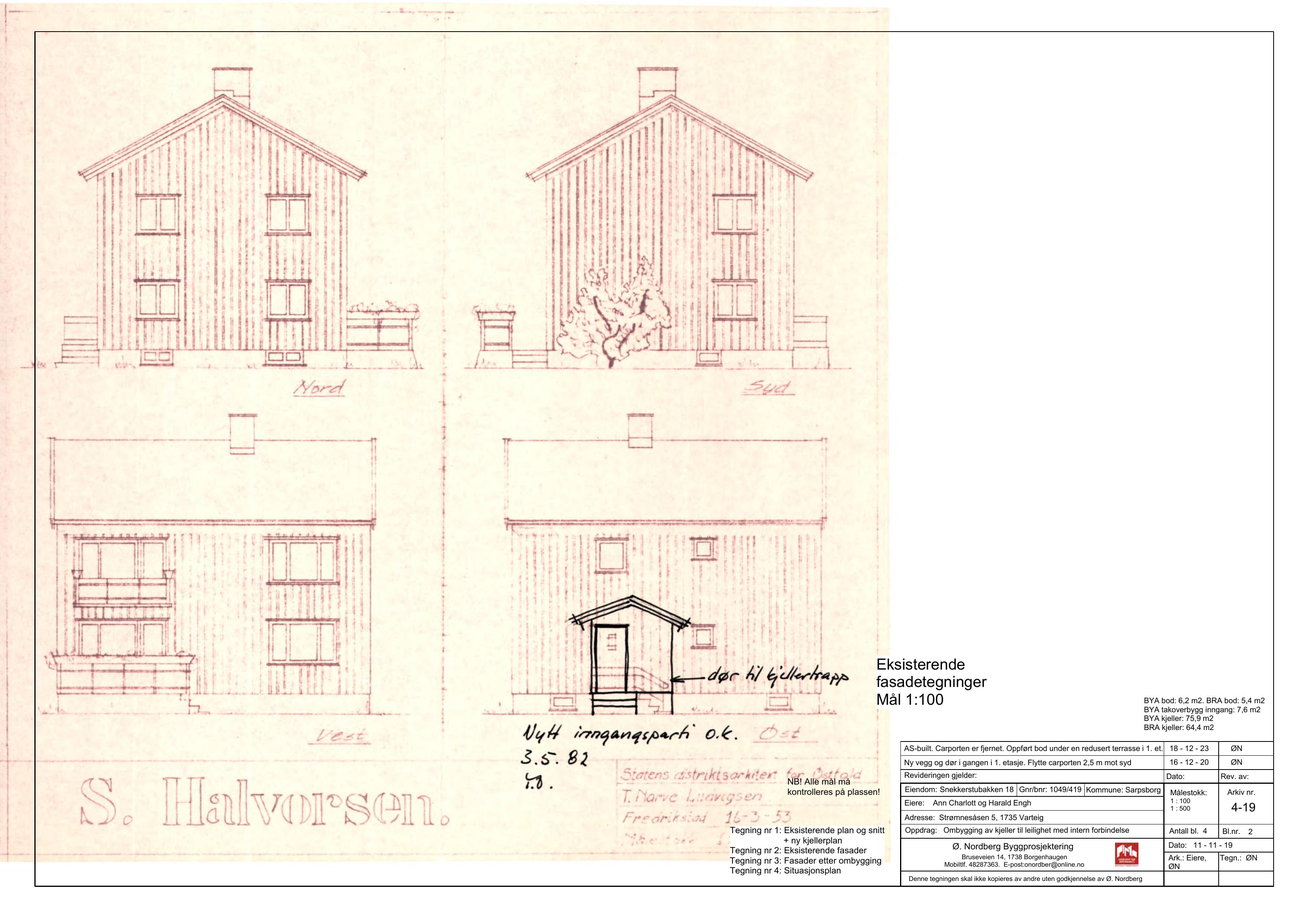fasade: (55, 68, 420, 371), (475, 66, 830, 370), (43, 414, 377, 716), (503, 414, 829, 715)
